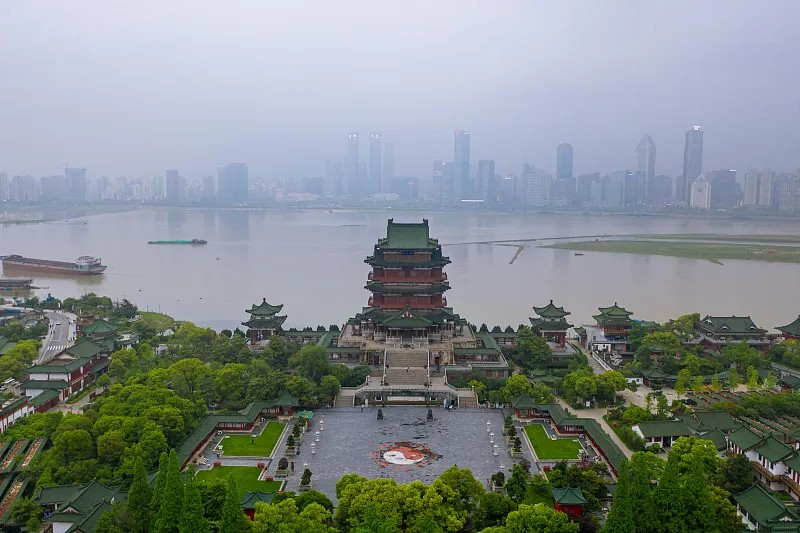Teng: (346, 217, 468, 339)
